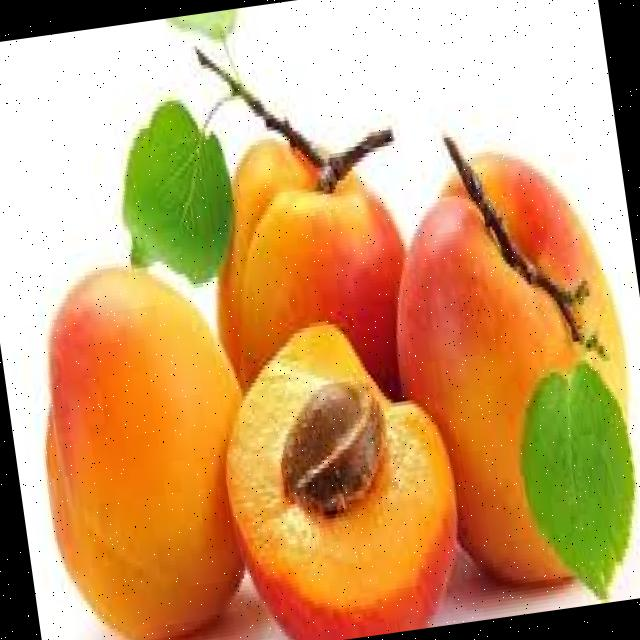Cekirdek: (282, 381, 386, 512)
Kayisi: (47, 267, 244, 640)
Yaprak: (124, 100, 233, 280)
